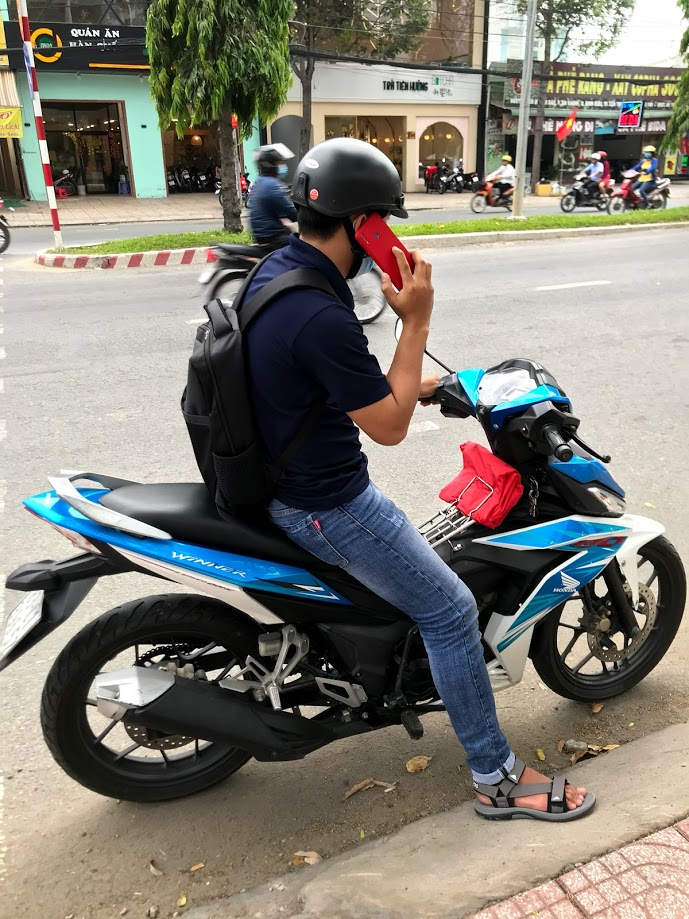dieu khien xe may: (253, 138, 623, 658)
su dung dien thoai: (291, 142, 436, 333)
